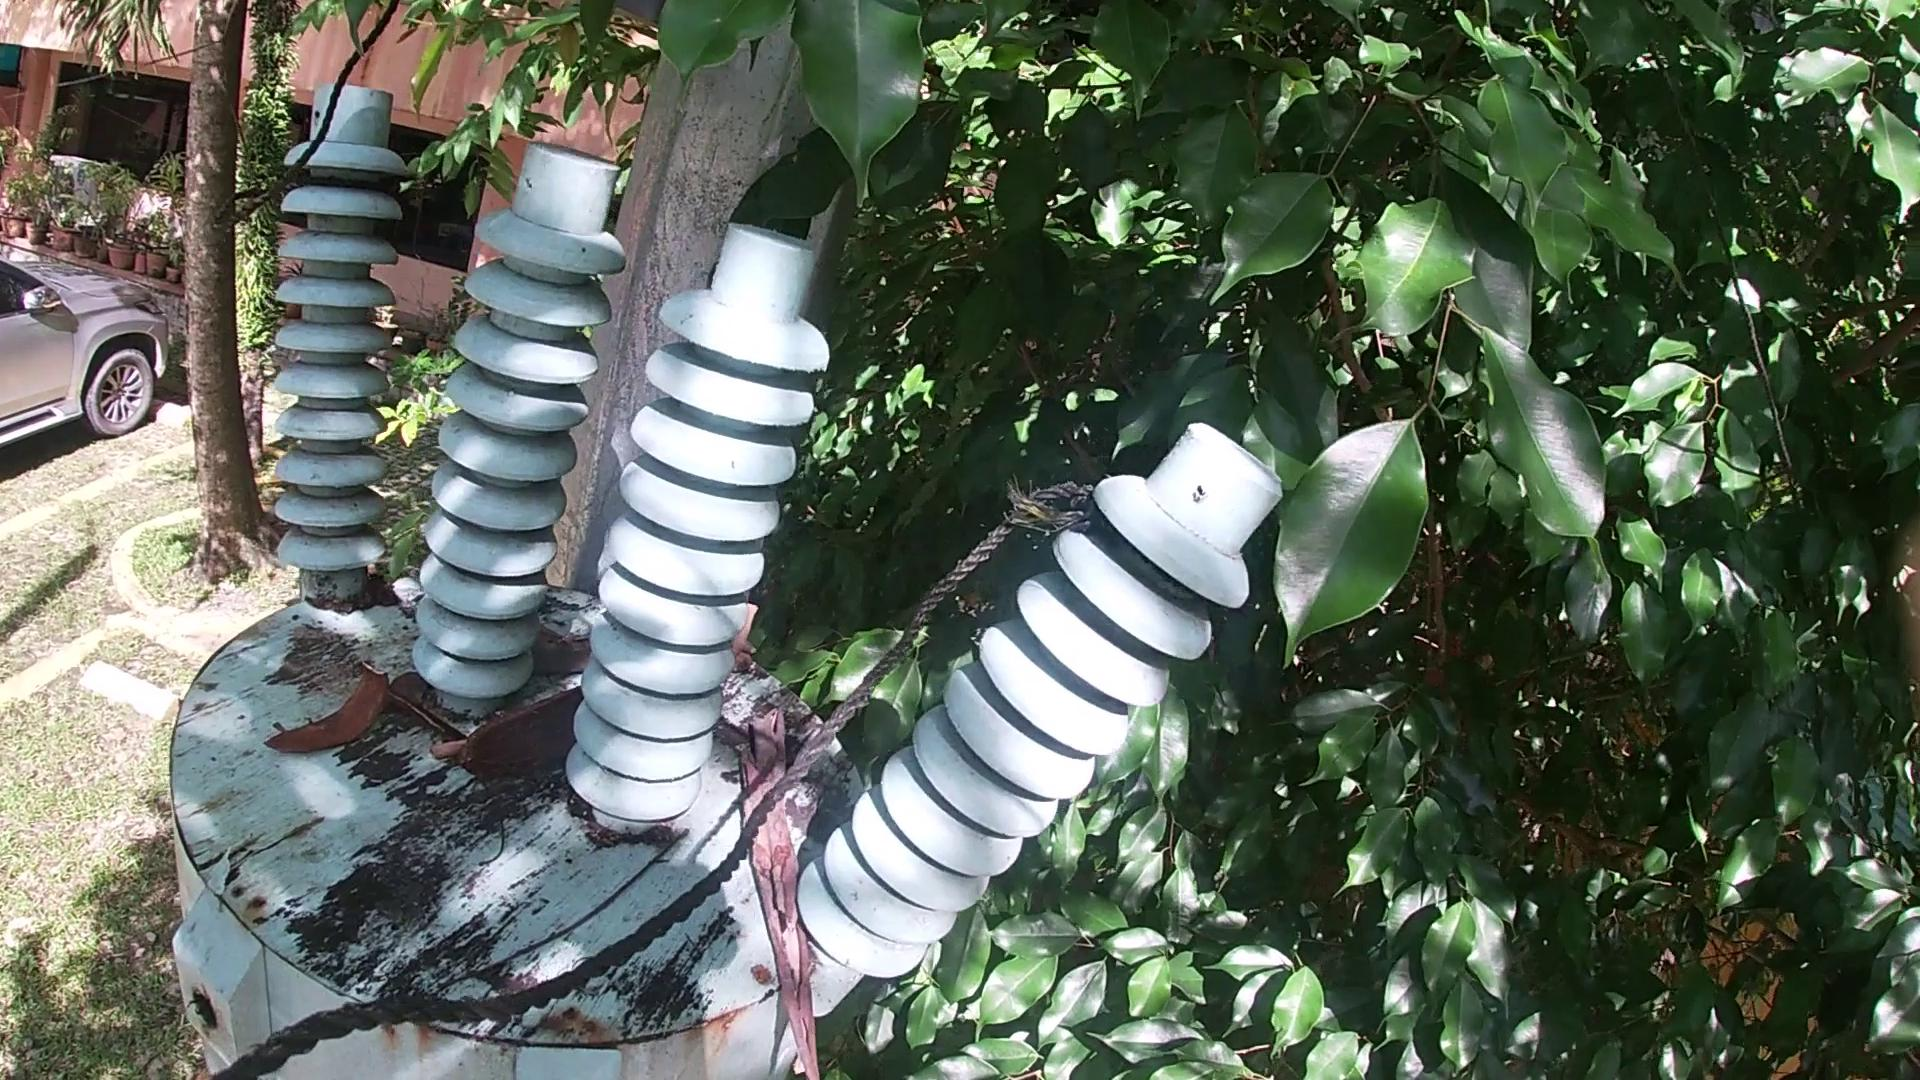leaf: (400, 694, 468, 742)
mahogany fruit: (455, 684, 588, 783), (269, 655, 392, 754)
tree branch: (421, 820, 698, 990), (736, 703, 837, 1080), (462, 798, 520, 874), (733, 593, 774, 675), (524, 641, 597, 680), (433, 741, 454, 774)
